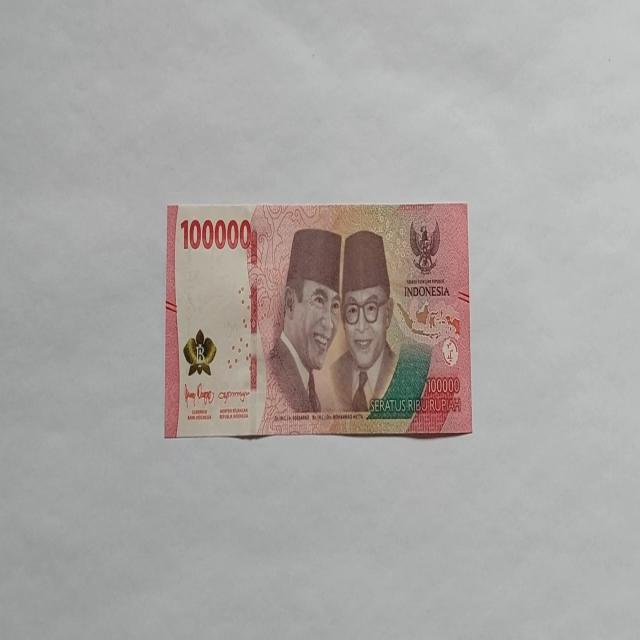seratus ribu rupiah: (164, 201, 472, 439), (264, 226, 342, 419)
